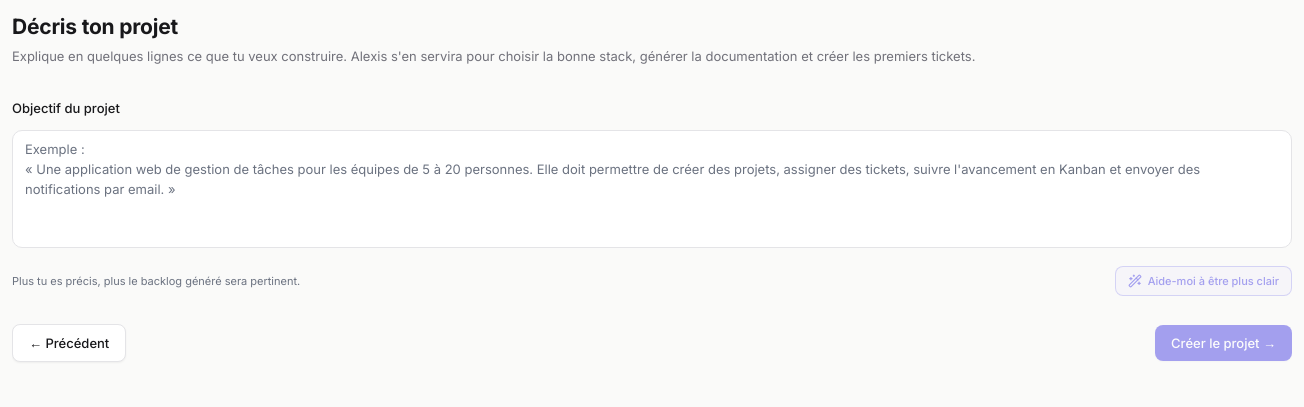
DescriptionPage — bouton Aide-moi à être plus clair › affiche un message d'erreur si refineBrief échoue
Replace the text in the text box with "une idée" at [652, 189], box [12,130,1292,248]
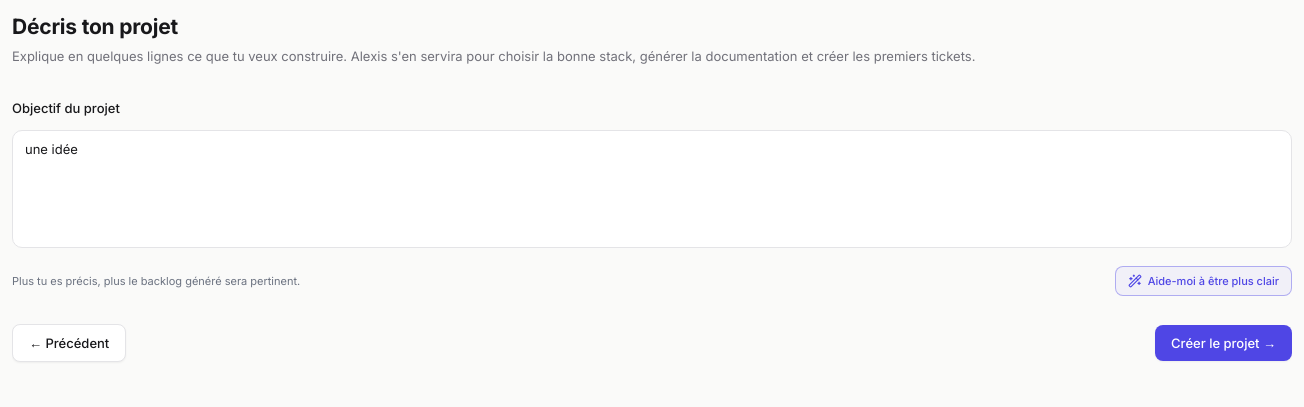
Click the button "Aide-moi à être plus clair" at [1203, 281], box [1115,266,1292,296]
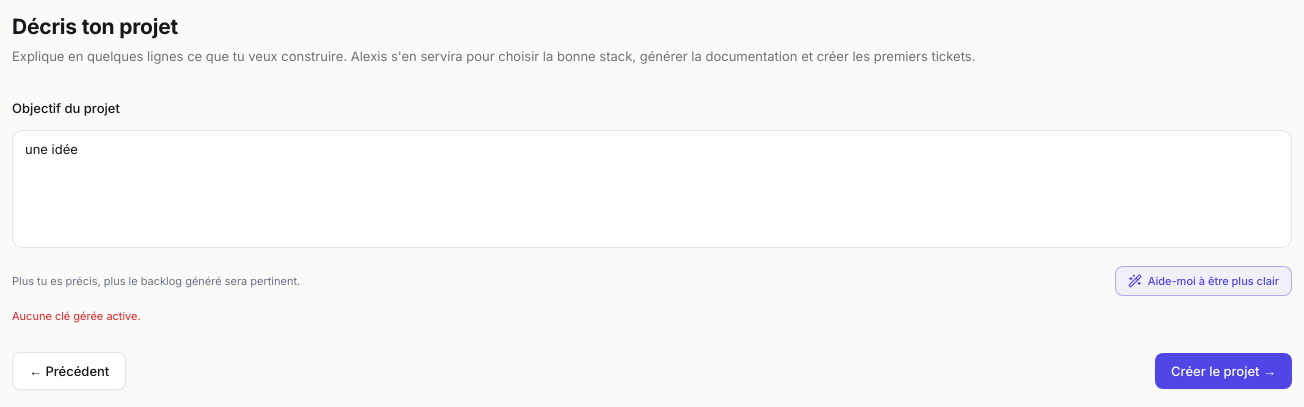
Check: the text "Aucune clé gérée active." is shown, box [12,309,141,323]
